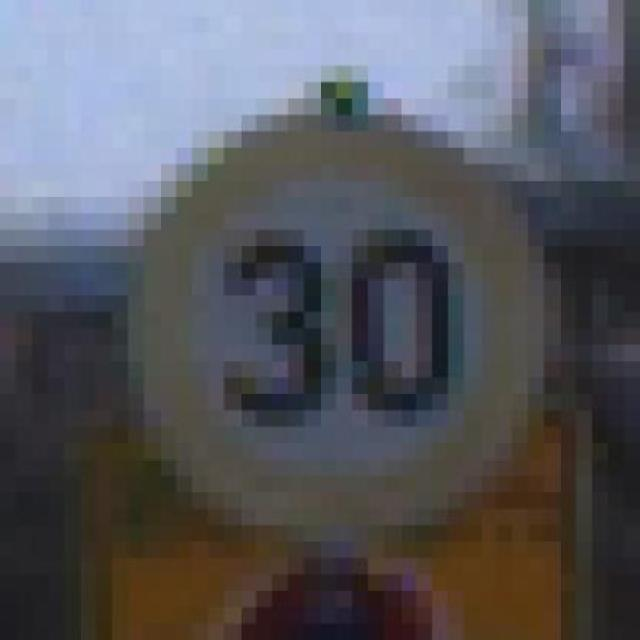Speed Limit 30 KMPh: (79, 81, 576, 558)
